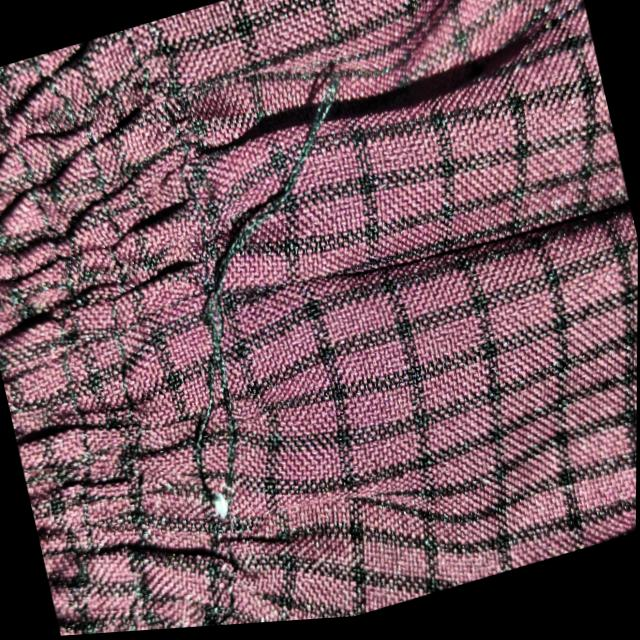Stitch: (81, 74, 494, 568)
